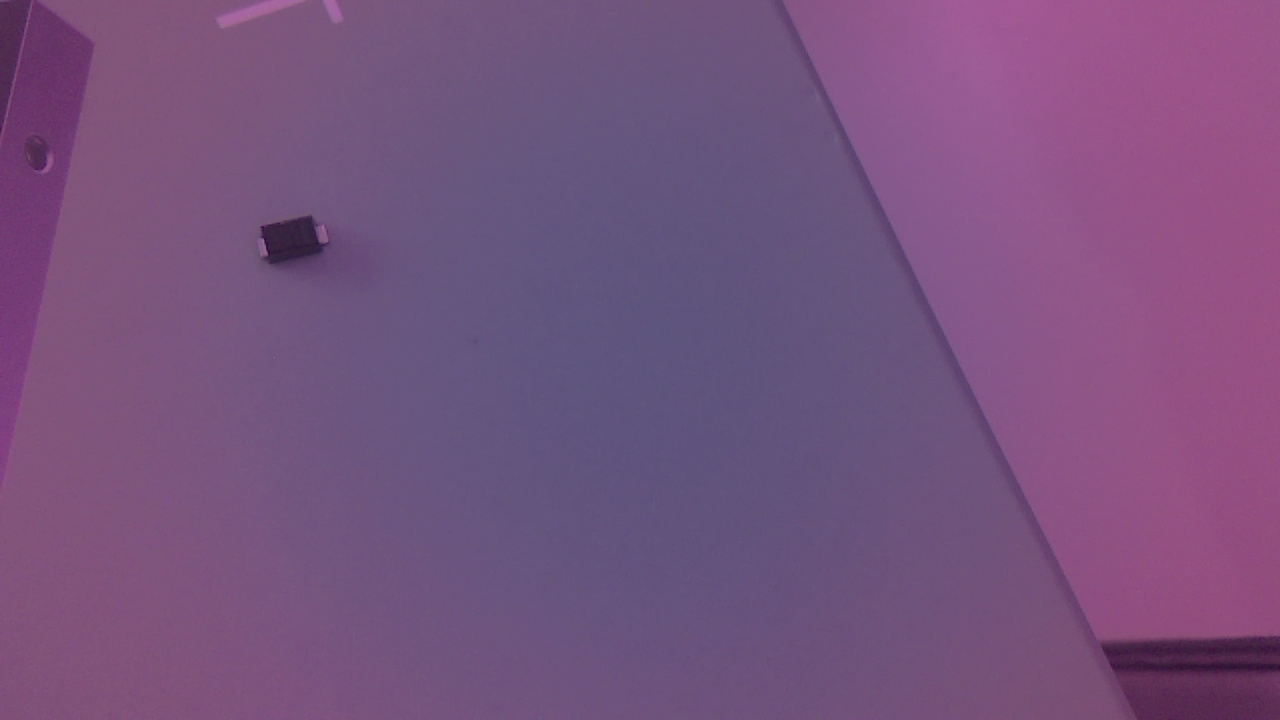Diode: (255, 219, 340, 277)
